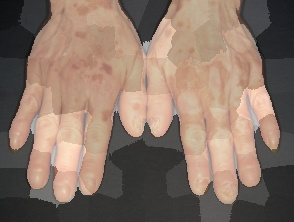vitiligo: (2, 0, 169, 209), (141, 0, 288, 204)
